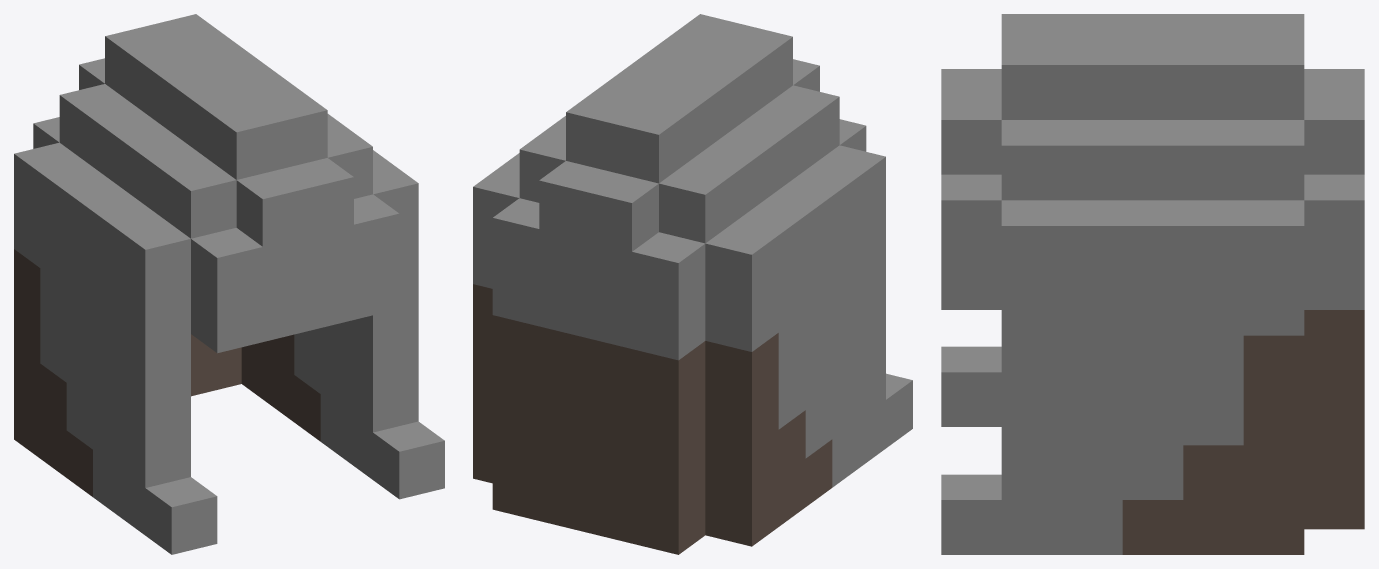
Rendered from char-251-helm_med_1d_du.obj.
3 renders of one model, left to right at view 1: azimuth 30°, elevation 25°; view 2: azimuth 150°, elevation 25°; view 3: azimuth 270°, elevation 25°, orthographic. The views are drawn at different scales.
Parts seen in each view (by area): view 1: helm_med_1d_du; view 2: helm_med_1d_du; view 3: helm_med_1d_du.
Part boxes in pixels (bbox=[...]): helm_med_1d_du: bbox=[14, 14, 444, 554]; helm_med_1d_du: bbox=[473, 14, 912, 554]; helm_med_1d_du: bbox=[941, 14, 1364, 554].
Size of the model in its own units: 0.6 by 0.8 by 0.7.
Materials: 1 (1 with a texture image).
